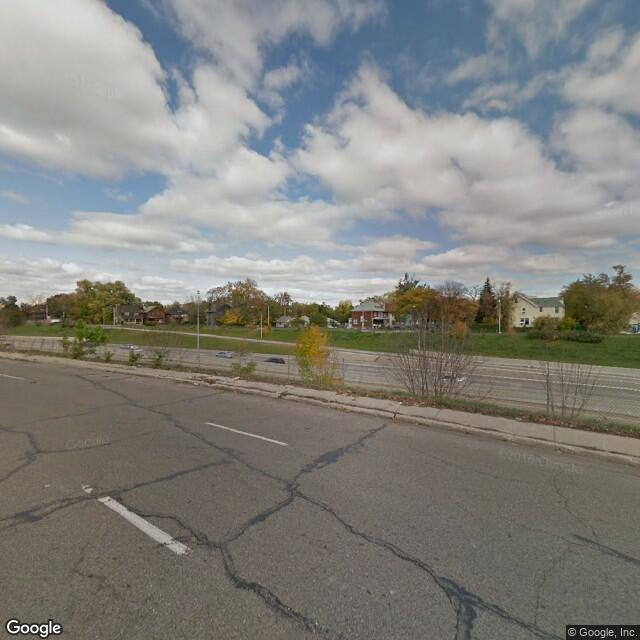litter: (227, 376, 240, 383), (192, 381, 204, 387), (397, 400, 403, 404)
